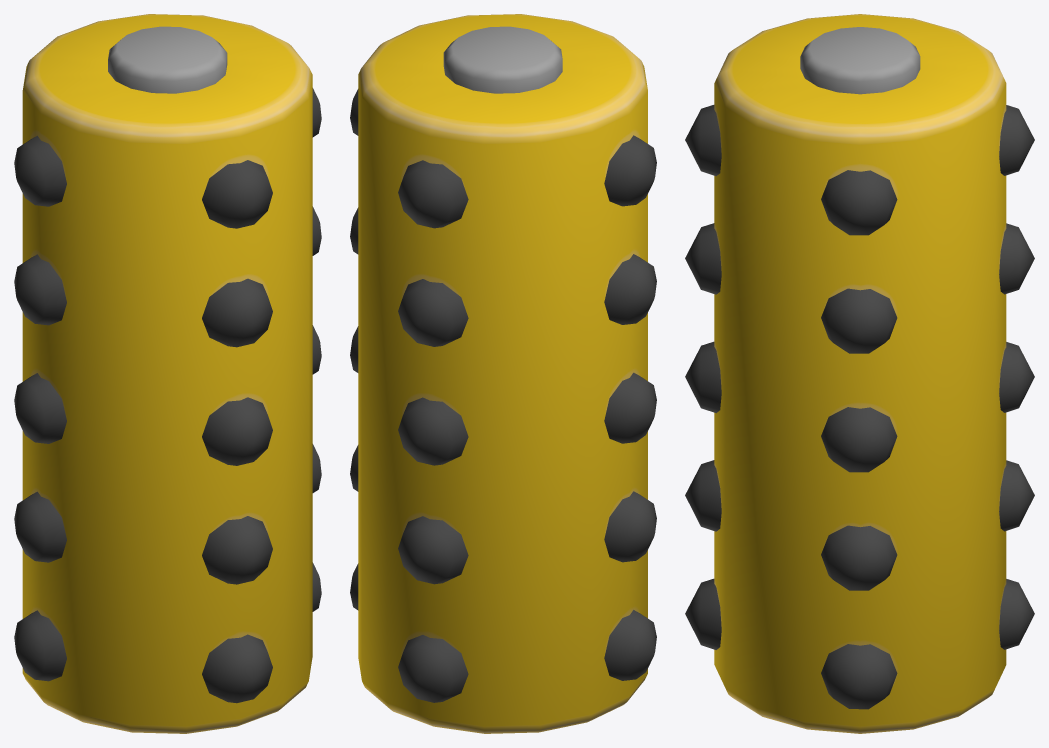
Rendered from OBS0110189.fbx.
The picture shows the model from 3 angles, left to right: view 1: azimuth 30°, elevation 25°; view 2: azimuth 150°, elevation 25°; view 3: azimuth 270°, elevation 25°; orthographic projection.
Visible parts, largest first — view 1: smOBS0110189; view 2: smOBS0110189; view 3: smOBS0110189.
Boxes of the visible parts, x1,y1,x2,y2 form: smOBS0110189: (14, 14, 321, 733); smOBS0110189: (350, 14, 656, 733); smOBS0110189: (685, 14, 1034, 733).
Size of the model in its own units: 159 by 327 by 159.
1 material, 1 textured.
